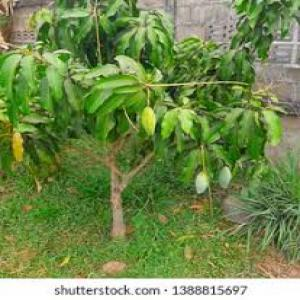Tree: (5, 2, 286, 238)
